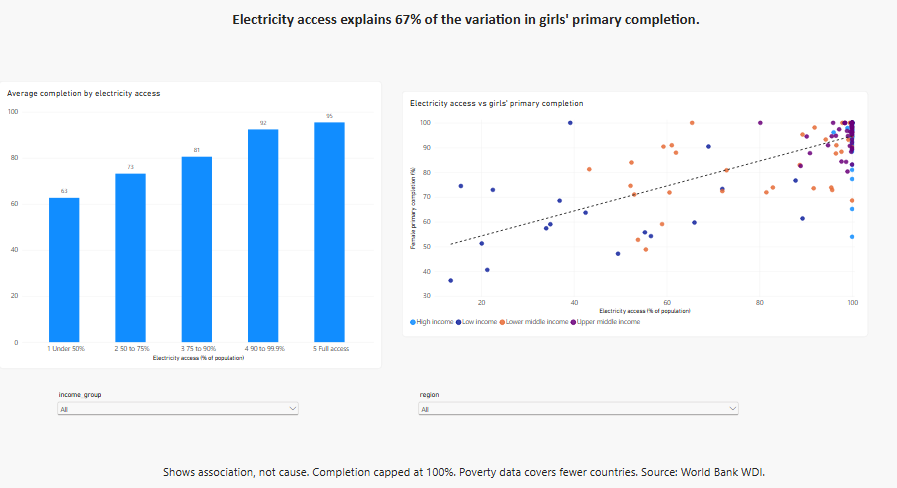

The page's visual inventory and layout, read from the dashboard file:
{"tool":"powerbi","page":{"name":"Page 1","canvas":[1920,1080],"ordinal":0},"visuals":[{"type":"scatterChart","title":"Electricity access vs girls'' primary completion","fields":{"Category":["clean_data.country"],"Series":["clean_data.income_group"],"X":["Avg(clean_data.electricity)"],"Y":["Avg(clean_data.completion)"]},"box":[856,30,992,602],"z":0},{"type":"clusteredColumnChart","title":"Average completion by electricity access","fields":{"Category":["clean_data.Electricity Band"],"Y":["Avg(clean_data.completion)"]},"box":[0,54,814,616],"z":1},{"type":"slicer","fields":{"Values":["clean_data.income_group"]},"box":[118,670,524,210],"z":2},{"type":"slicer","fields":{"Values":["clean_data.region"]},"box":[886,646,550,314],"z":3}]}

Visuals, with their boxes on the page's 1920x1080 design canvas (x1, y1, x2, y2). These are canvas units, not pixel positions in the 897x488 screenshot, which may show the page scaled, cropped or inside an application window:
"Electricity access vs girls'' primary completion" scatterChart: [x1=856, y1=30, x2=1848, y2=632]
"Average completion by electricity access" clusteredColumnChart: [x1=0, y1=54, x2=814, y2=670]
slicer - clean_data.income_group: [x1=118, y1=670, x2=642, y2=880]
slicer - clean_data.region: [x1=886, y1=646, x2=1436, y2=960]
